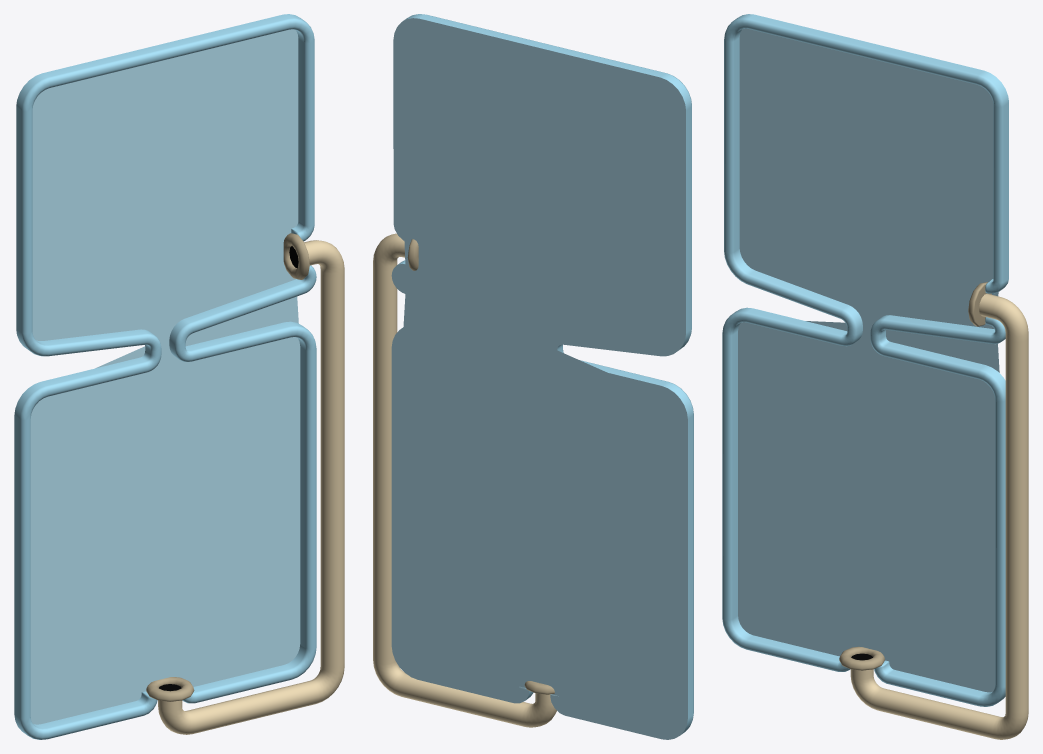
Rendered from sceneGame (4).fbx.
3 views of the same model, side by side, from view 1: azimuth 30°, elevation 25°; view 2: azimuth 150°, elevation 25°; view 3: azimuth 330°, elevation 25° (orthographic). The views are drawn at different scales.
Visible parts, largest first — view 1: mainPlatform.003, pipe.004; view 2: mainPlatform.003, pipe.004; view 3: mainPlatform.003, pipe.004.
Boxes of the visible parts, bbox=[...] form: mainPlatform.003: bbox=[14, 14, 316, 739]; pipe.004: bbox=[146, 233, 344, 734]; mainPlatform.003: bbox=[391, 14, 693, 739]; pipe.004: bbox=[373, 233, 556, 727]; mainPlatform.003: bbox=[722, 14, 1008, 706]; pipe.004: bbox=[839, 282, 1028, 739].
Size of the model in its own units: 6.16 by 12.62 by 0.7975.
